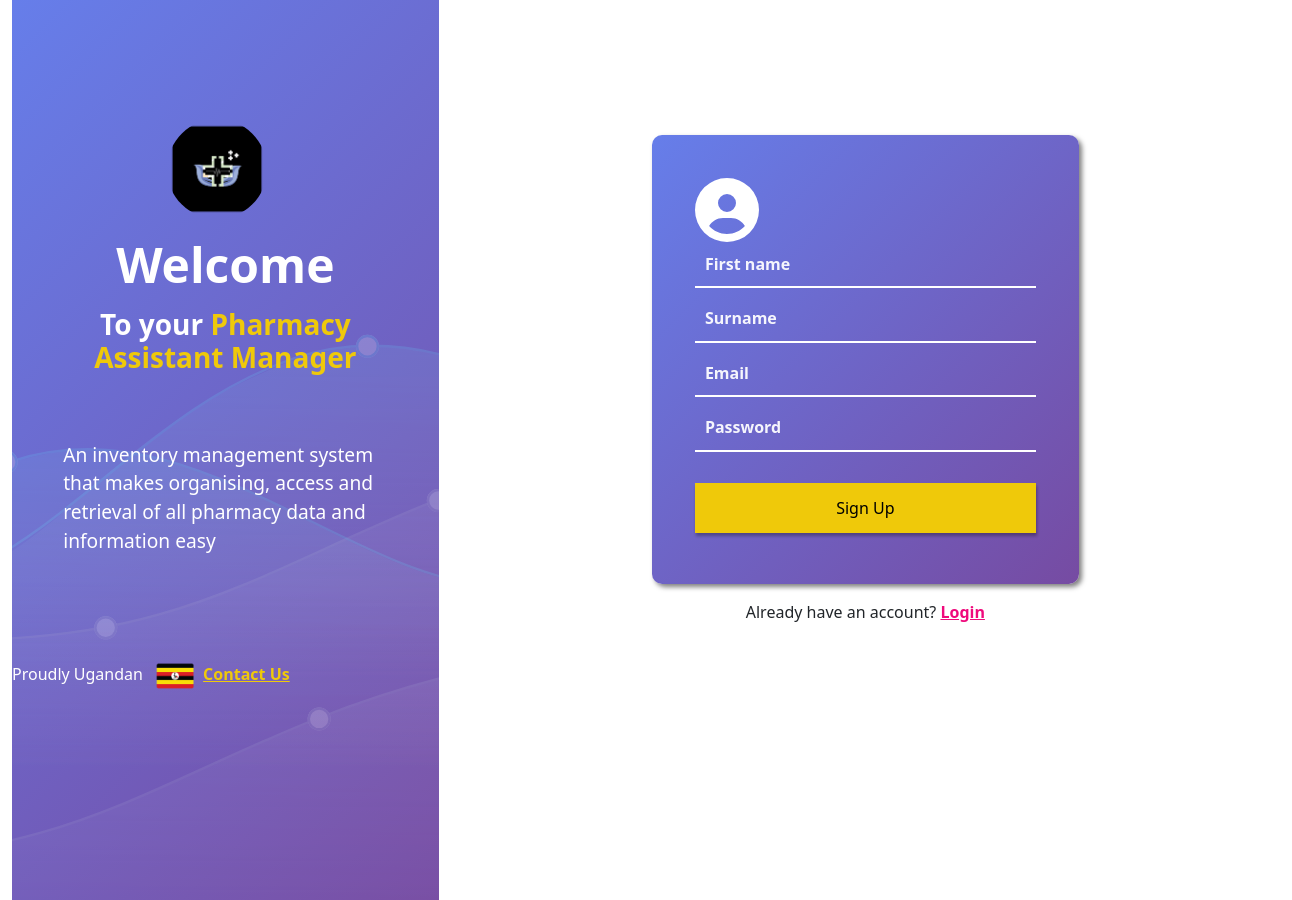
Test: Testing the Signup and Login divs › Show signup form when signup link is clicked
Click the link with test id "login-link" at (963, 612), box x1=940 y1=601 x2=985 y2=623
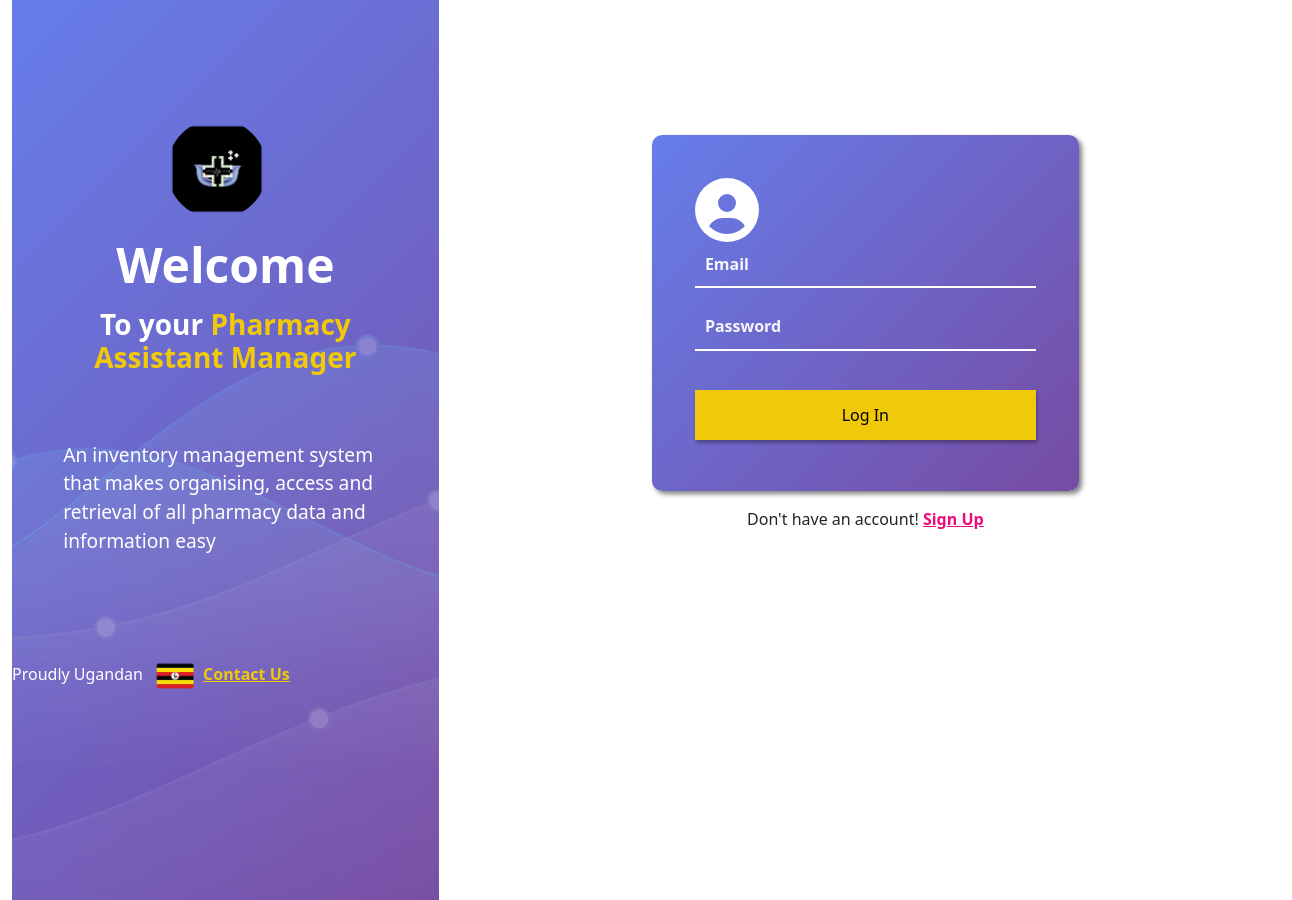
Click the link with test id "signup-link" at (953, 519), box x1=923 y1=508 x2=984 y2=530
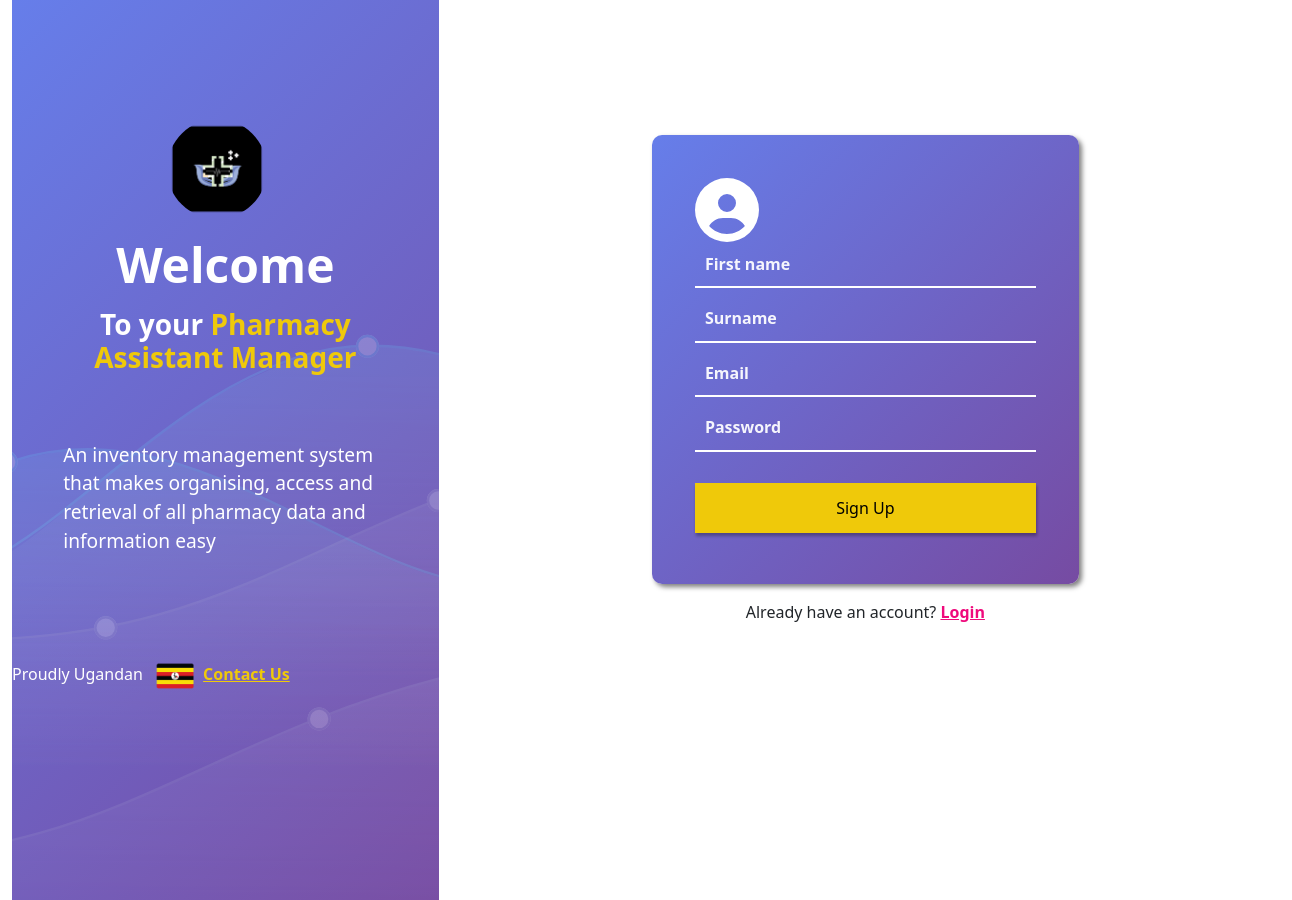
Expected: the element with test id "signup-div" is shown, x1=652 y1=135 x2=1079 y2=584
Expected: the element with test id "login-div" is gone
